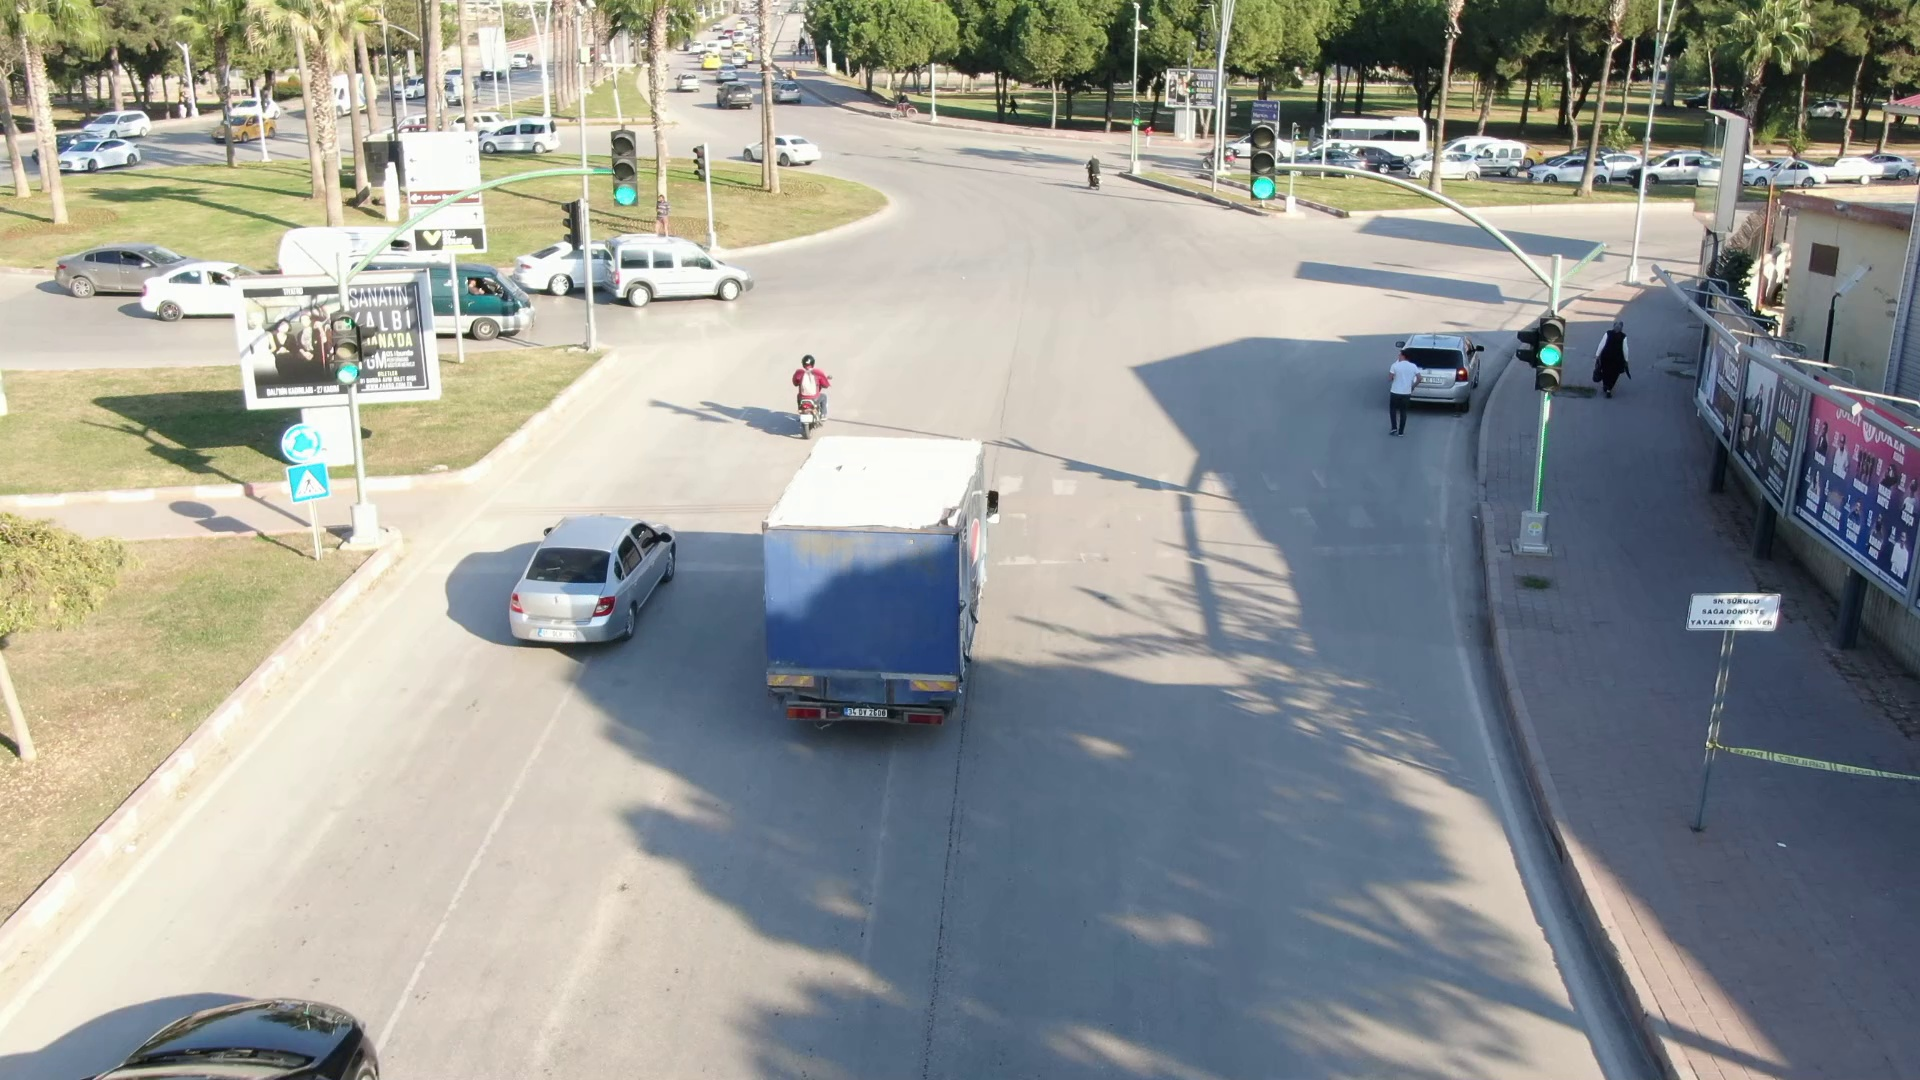car: (500, 503, 689, 656), (601, 228, 757, 312), (49, 233, 208, 306), (433, 256, 547, 341), (474, 114, 573, 160), (47, 131, 152, 173), (734, 128, 832, 172), (1525, 148, 1612, 193)
person: (1579, 303, 1647, 404), (1373, 341, 1429, 435), (773, 334, 847, 404)
